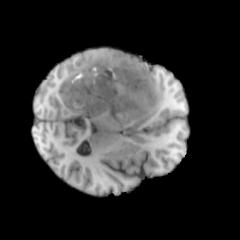glioma: (50, 50, 163, 125)
